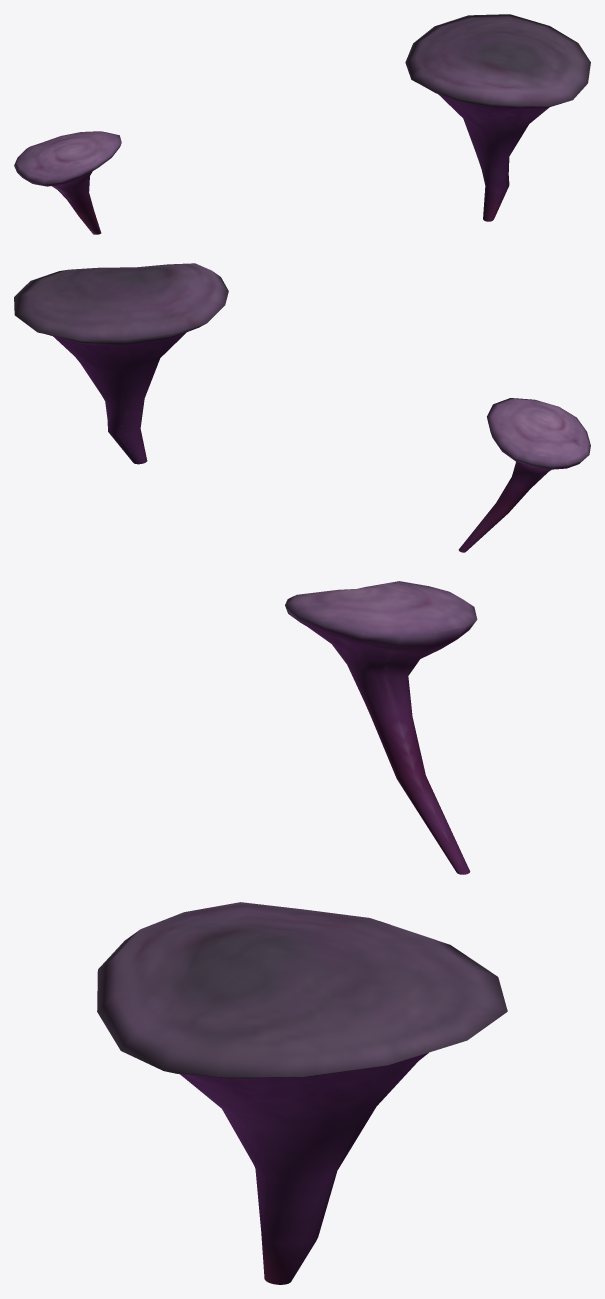
The model's file is boss_2_mogu_08.FBX.
The picture shows the model from 3 angles, top to bottom: view 1: azimuth 30°, elevation 25°; view 2: azimuth 150°, elevation 25°; view 3: azimuth 270°, elevation 25°; orthographic projection. The views are drawn at different scales.
Visible parts, largest first — view 1: Object003; view 2: Object003; view 3: Object003.
Boxes of the visible parts, bbox=[...] form: Object003: bbox=[14, 14, 590, 234]; Object003: bbox=[14, 263, 590, 552]; Object003: bbox=[97, 581, 507, 1284].
Bounding box in the file's own units: 620 × 190 × 206.
